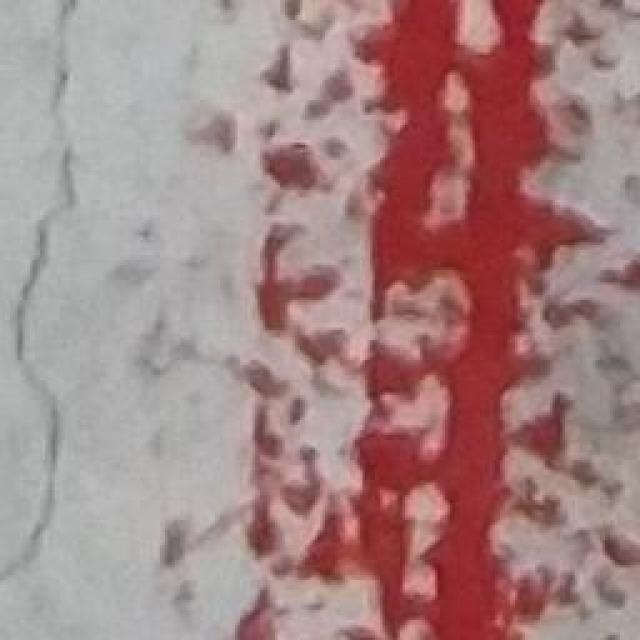Longitudinal: (0, 0, 85, 590)
